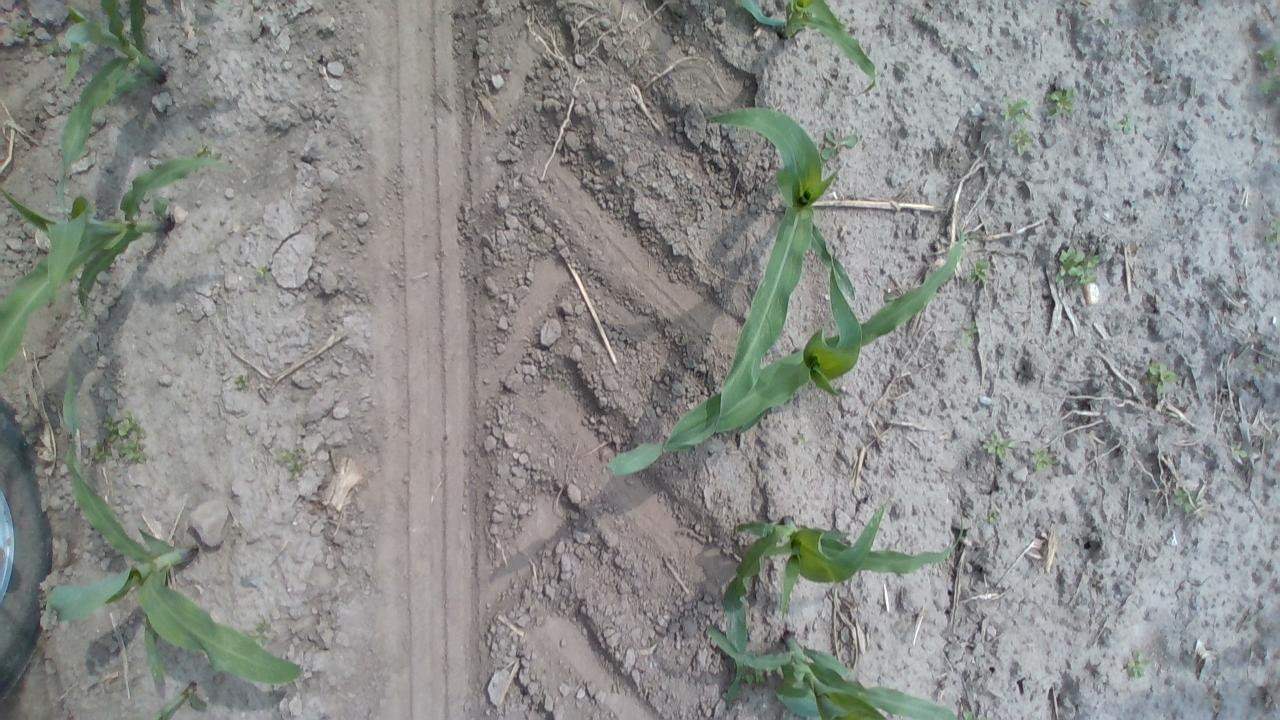Maize: (608, 228, 970, 480), (41, 358, 305, 693), (672, 107, 868, 450), (0, 148, 226, 386), (721, 509, 973, 672), (51, 0, 175, 222), (699, 627, 982, 720), (726, 0, 881, 82), (134, 683, 211, 720)
Weeds: (88, 413, 152, 466), (997, 93, 1036, 160), (1054, 245, 1104, 284), (1255, 42, 1280, 100), (1140, 359, 1178, 397), (819, 129, 861, 163), (1044, 86, 1078, 124), (980, 430, 1017, 463), (276, 446, 308, 478), (1122, 646, 1149, 679), (1169, 483, 1197, 514), (1029, 446, 1059, 472), (1108, 107, 1134, 136), (958, 320, 984, 346), (970, 257, 994, 285), (1228, 438, 1253, 463), (10, 15, 34, 41), (191, 142, 222, 162), (737, 668, 771, 686), (954, 707, 1000, 720), (1265, 212, 1280, 246), (233, 373, 256, 394), (44, 42, 69, 61), (256, 262, 277, 282), (985, 508, 1004, 526)
